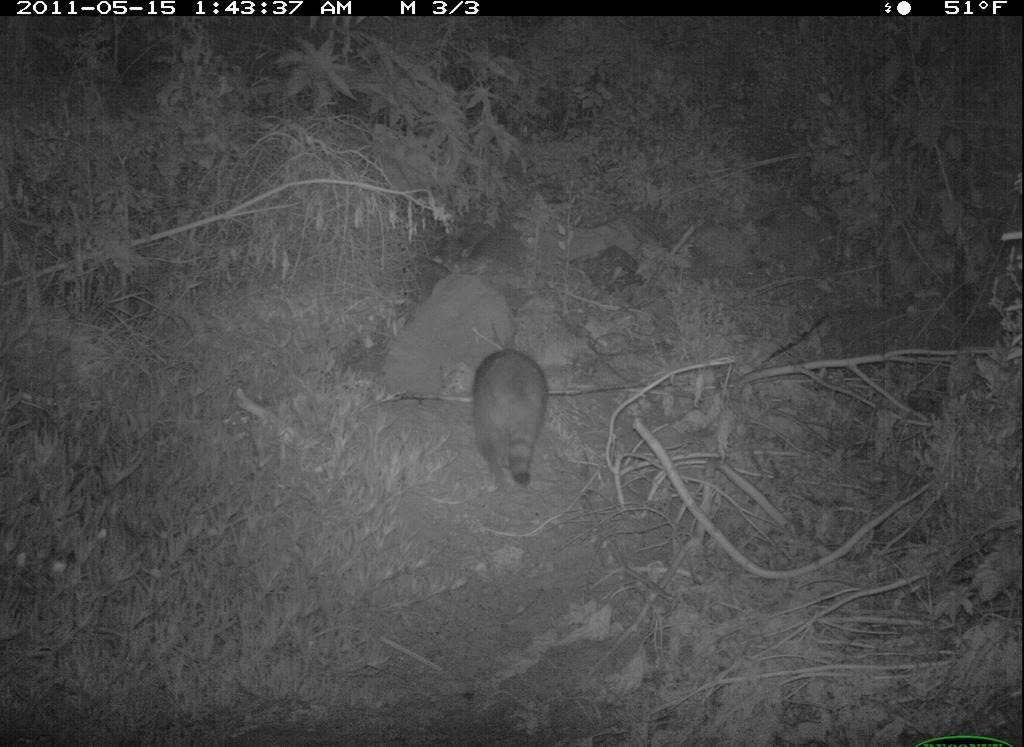raccoon: (461, 327, 559, 504)
